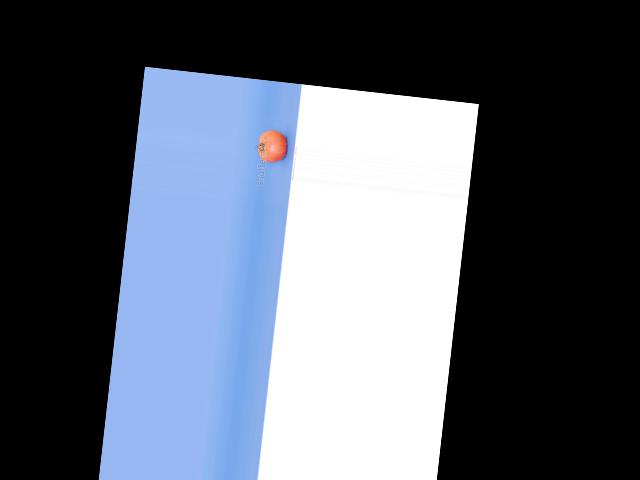tomato: (256, 128, 288, 163)
